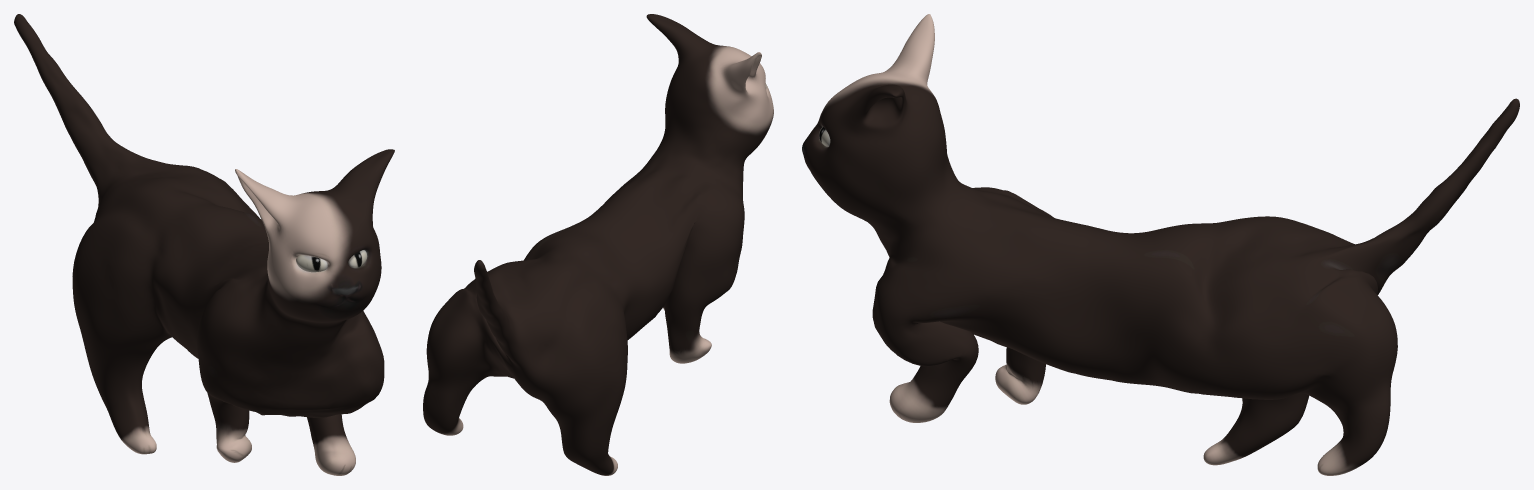
File: henrywebsitepng2.glb
3 renders of one model, left to right at view 1: azimuth 30°, elevation 25°; view 2: azimuth 150°, elevation 25°; view 3: azimuth 270°, elevation 25°, orthographic. The views are drawn at different scales.
Size of the model in its own units: 6.38 by 12.71 by 19.3.
Materials: 1 (1 with a texture image).
